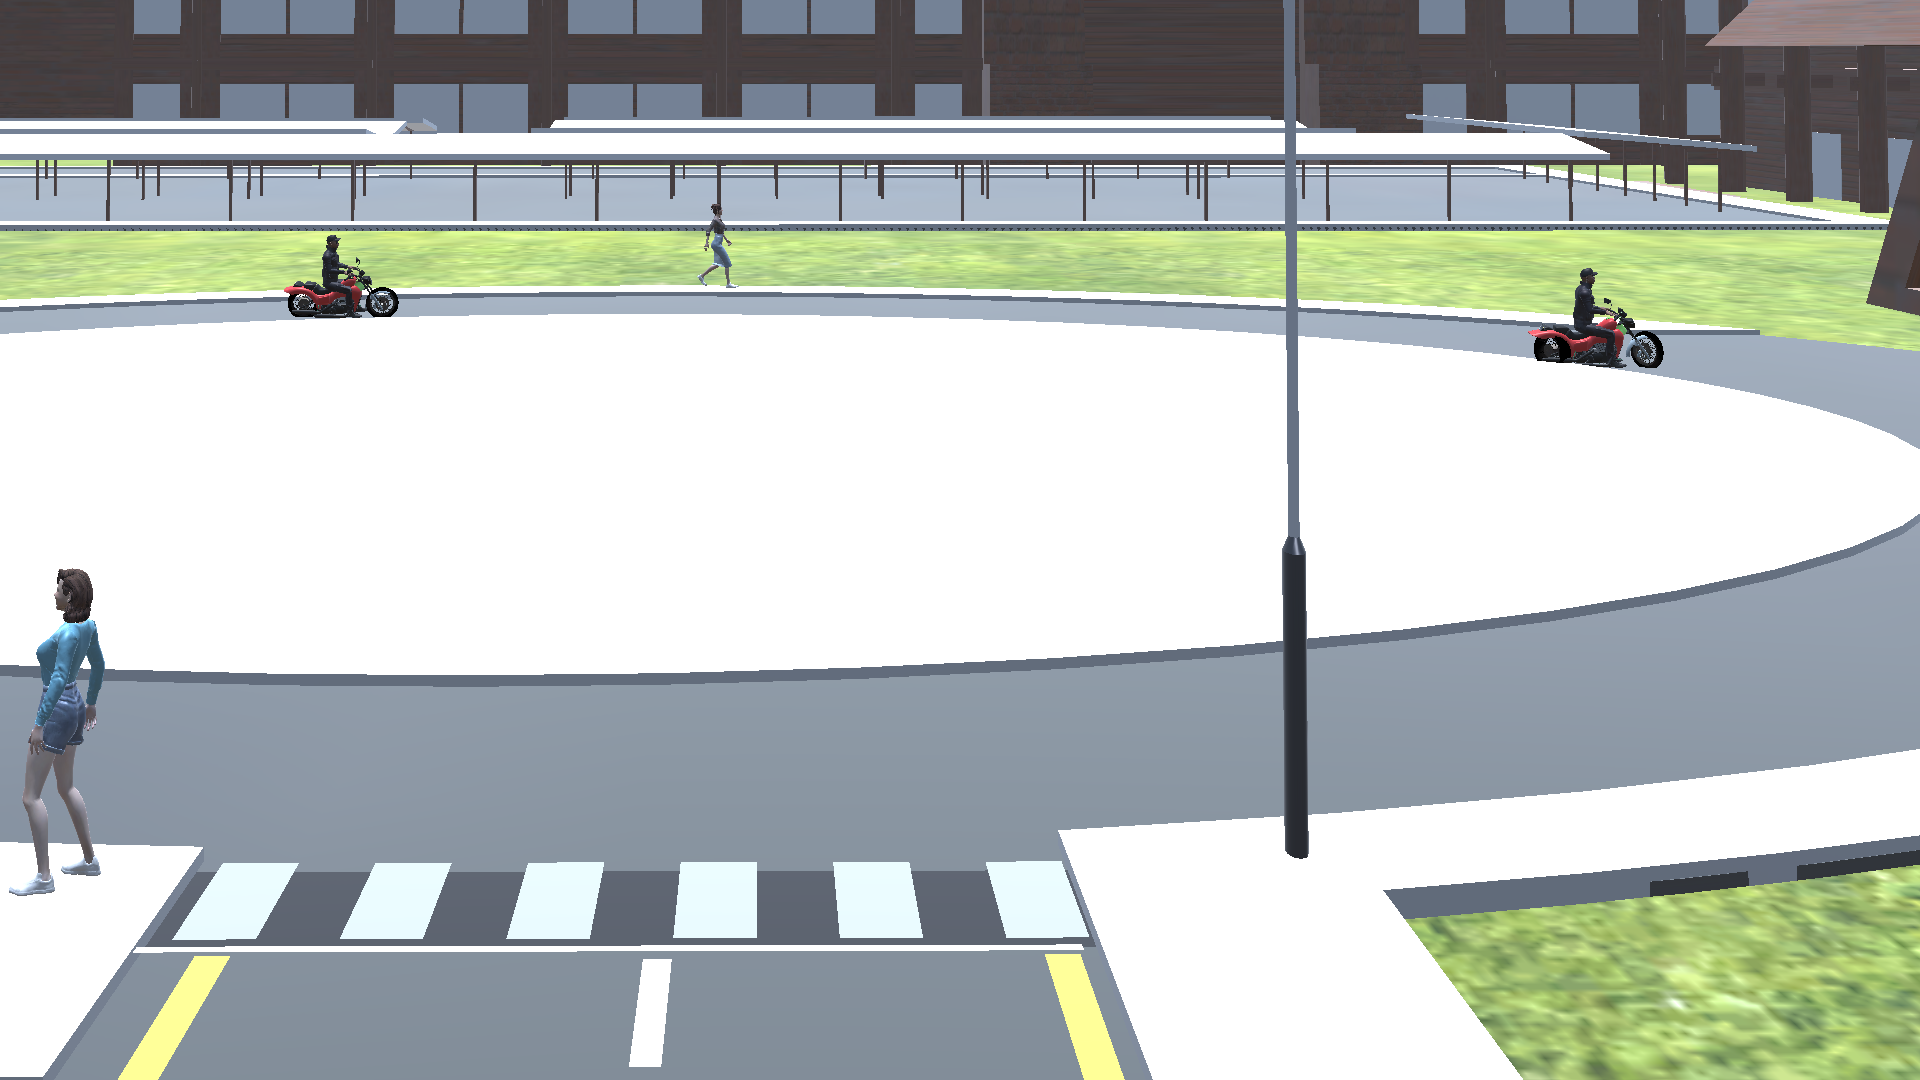pedestrian: (5, 562, 116, 902), (693, 199, 739, 292)
